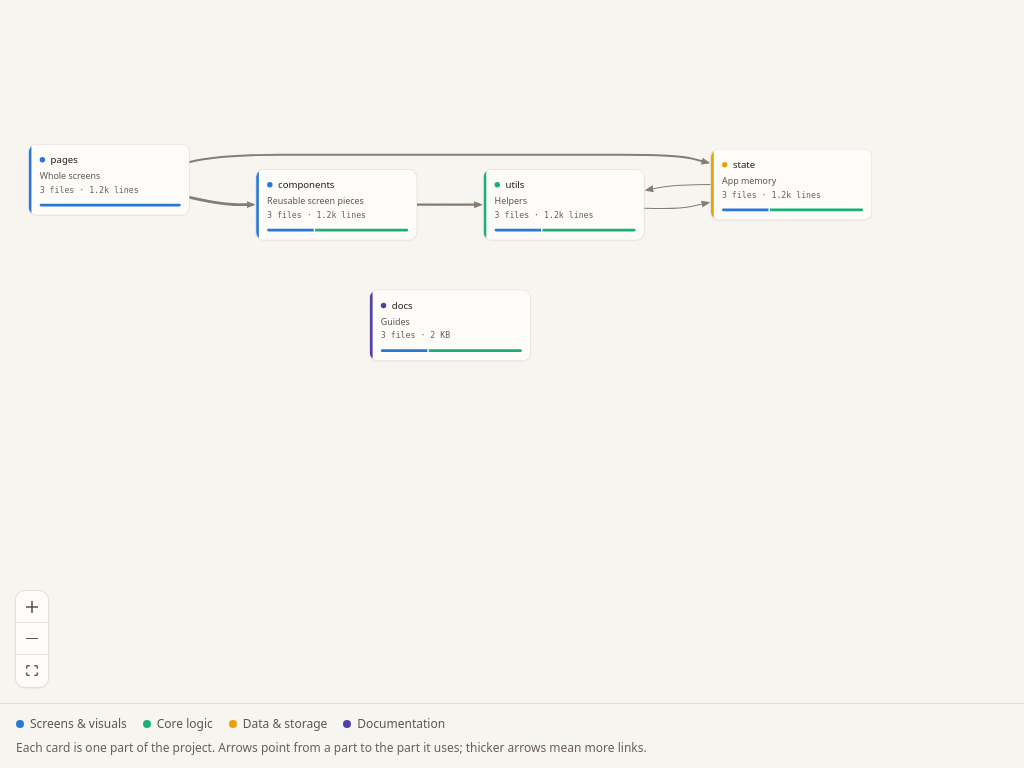
Test case: tooltips › stay hidden for taps and for focus handed back to a card after a tap (regression: tooltip stuck over the map)
The width and height of the screenshot is (1024, 768).
Press the mouse on the element with class "react-flow__node" that starts with "state" at point(791, 184), box [710,149,872,220]
Hover over the element with class "react-flow__node" that starts with "state" at point(791, 184), box [710,149,872,220]
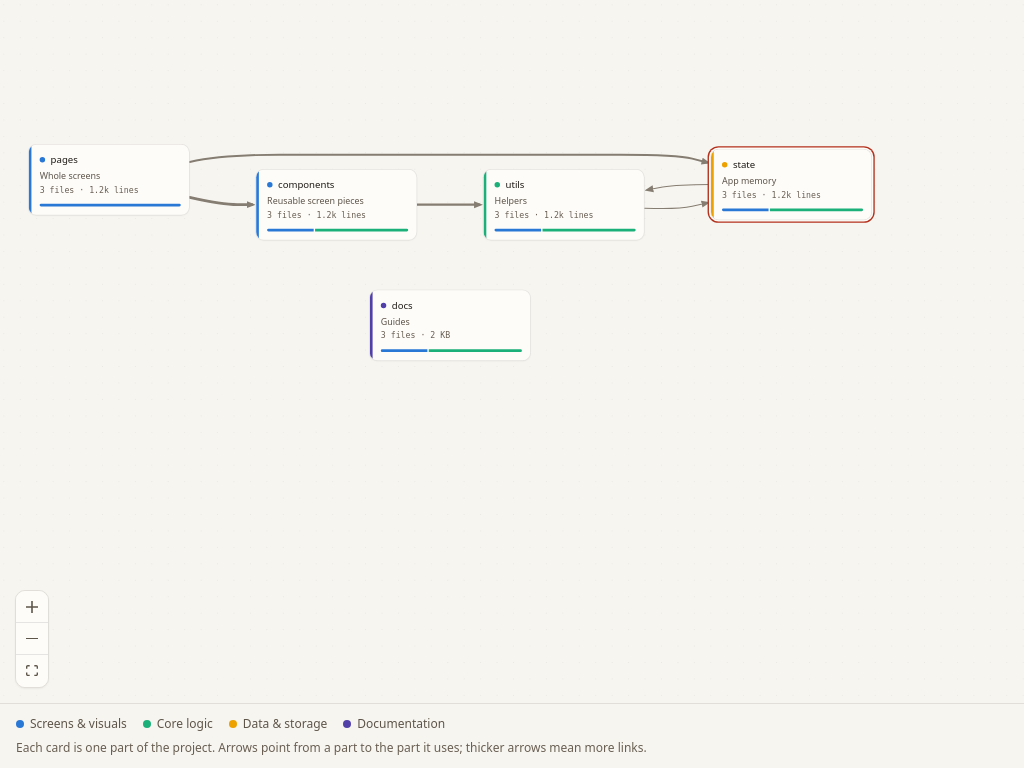
Hover over the element with class "react-flow__node" that starts with "state" at point(791, 184), box [710,149,872,220]
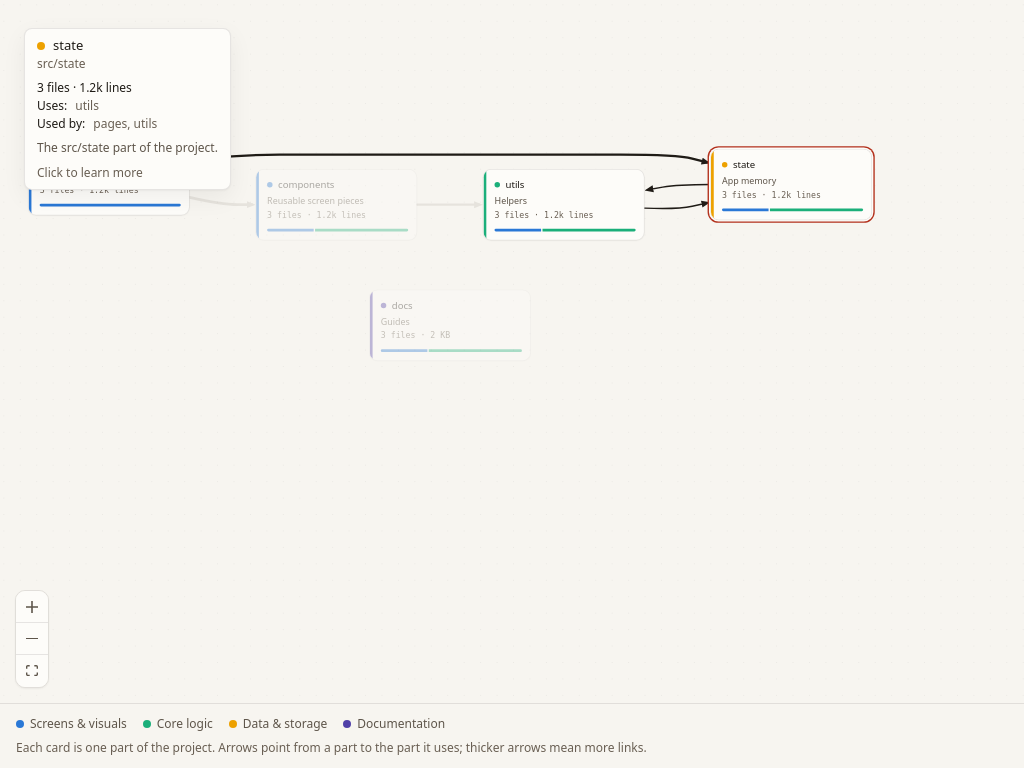
Result: the tooltip is shown at [24,28,231,190]
